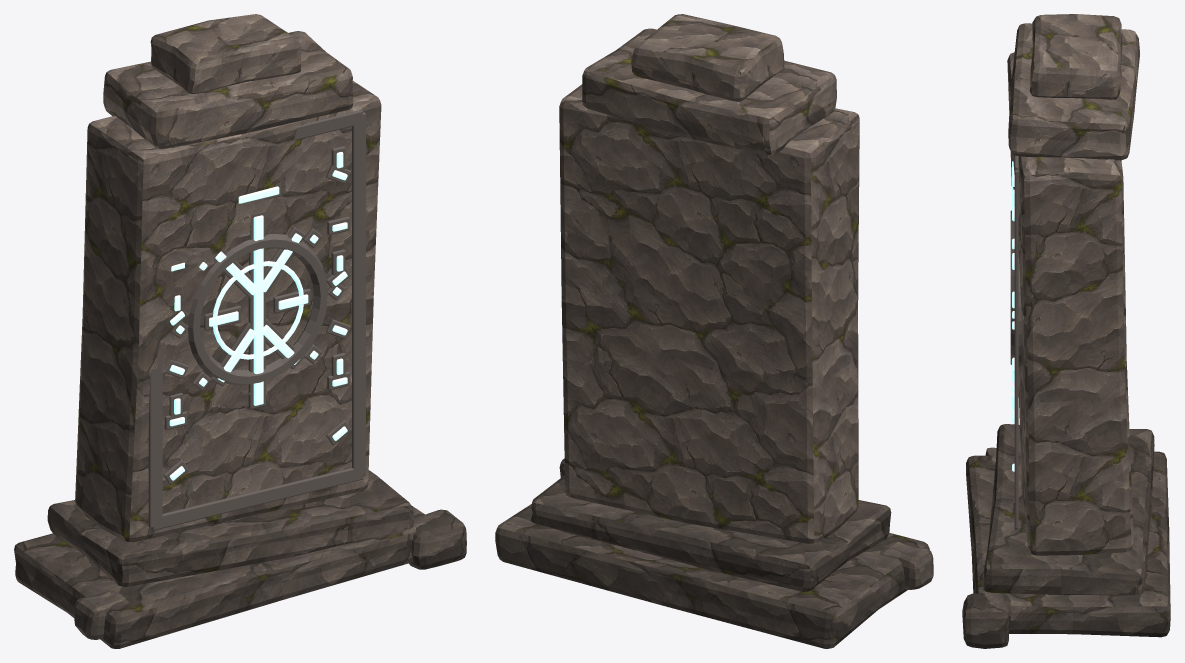
File: rune_slab.glb
3 renders of one model, left to right at view 1: azimuth 30°, elevation 25°; view 2: azimuth 150°, elevation 25°; view 3: azimuth 270°, elevation 25°, orthographic.
Visible parts, largest first — view 1: model; view 2: model; view 3: model.
Part boxes in pixels (left/top/right/bottom): model: left=14, top=14, right=466, bottom=648; model: left=495, top=14, right=933, bottom=648; model: left=962, top=14, right=1170, bottom=648.
Size of the model in its own units: 1.27 by 1.78 by 0.6307.
4 materials, 2 textured.
